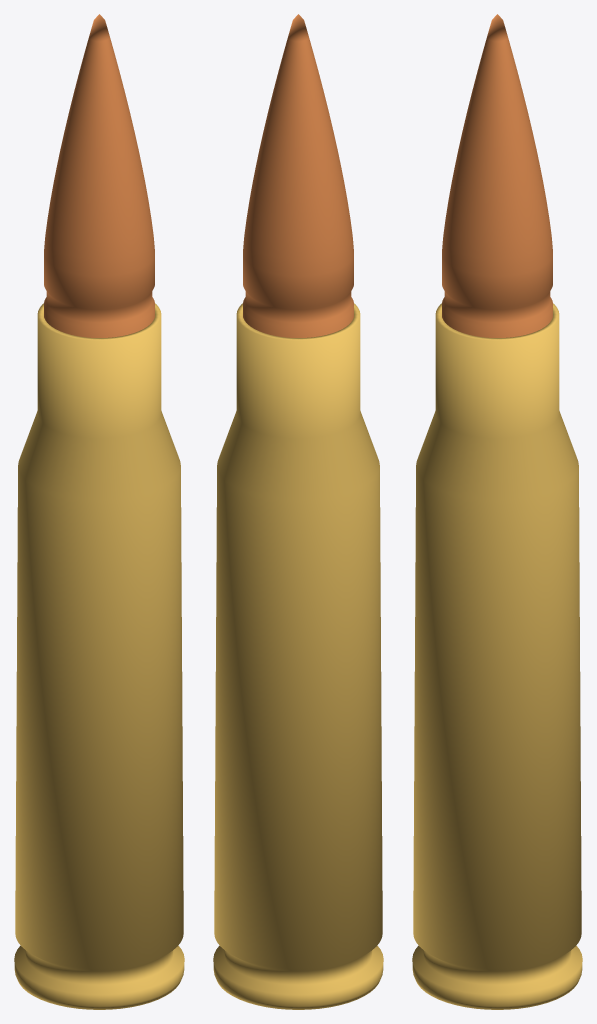
Rendered from Mermi_Tam_Fisek_762NATO.glb.
The picture shows the model from 3 angles, left to right: view 1: azimuth 30°, elevation 25°; view 2: azimuth 150°, elevation 25°; view 3: azimuth 270°, elevation 25°; orthographic projection.
Visible parts, largest first — view 1: Mermi_Tam_Fisek_762NATO_Case, Mermi_Tam_Fisek_762NATO_Bullet; view 2: Mermi_Tam_Fisek_762NATO_Case, Mermi_Tam_Fisek_762NATO_Bullet; view 3: Mermi_Tam_Fisek_762NATO_Case, Mermi_Tam_Fisek_762NATO_Bullet.
Part boxes in pixels (x1=…): Mermi_Tam_Fisek_762NATO_Case: x1=14, y1=303, x2=184, y2=1009; Mermi_Tam_Fisek_762NATO_Bullet: x1=44, y1=14, x2=154, y2=337; Mermi_Tam_Fisek_762NATO_Case: x1=213, y1=303, x2=383, y2=1009; Mermi_Tam_Fisek_762NATO_Bullet: x1=243, y1=14, x2=353, y2=337; Mermi_Tam_Fisek_762NATO_Case: x1=412, y1=303, x2=582, y2=1009; Mermi_Tam_Fisek_762NATO_Bullet: x1=442, y1=14, x2=552, y2=337.
Size of the model in its own units: 0.012 by 0.0745 by 0.012.
